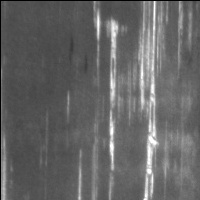scratches: (138, 2, 167, 200), (92, 13, 124, 173)
